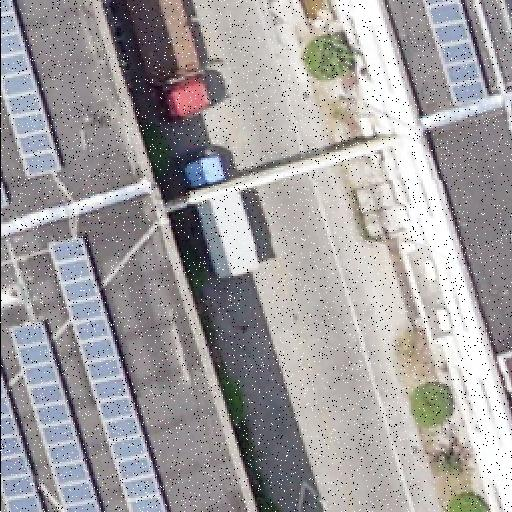solar-panel: (49, 240, 167, 512), (11, 320, 101, 512), (1, 0, 63, 180), (423, 1, 489, 111), (0, 377, 44, 511), (0, 178, 8, 210)
